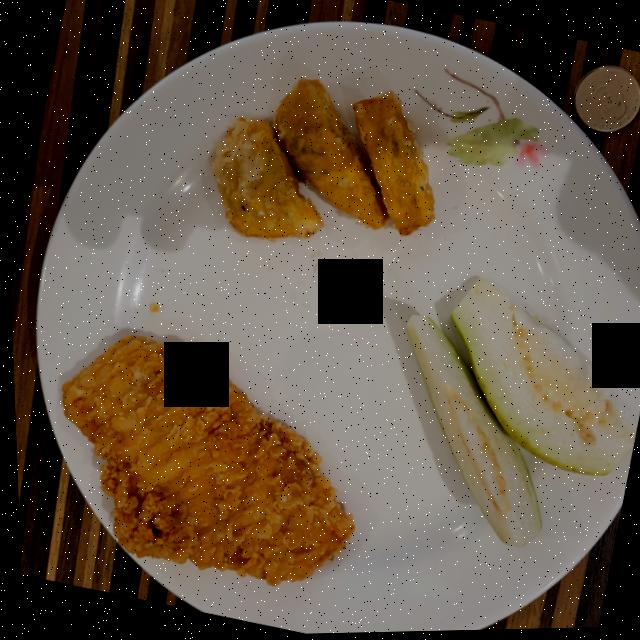coin: (572, 67, 640, 134)
fried chicken cutlet: (59, 334, 349, 586)
fried potato: (211, 79, 432, 239)
guava -sliced-: (404, 279, 635, 548)
